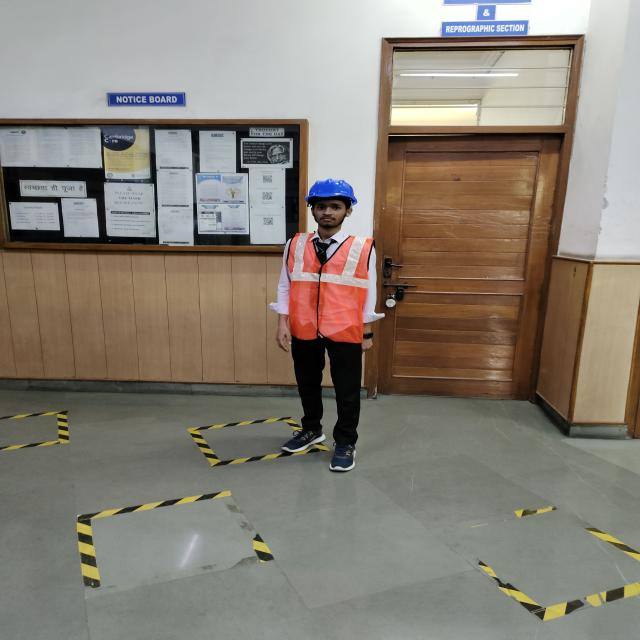safe: (274, 179, 377, 470)
